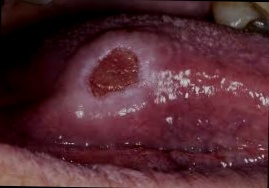Ulcer: (79, 43, 144, 104)
